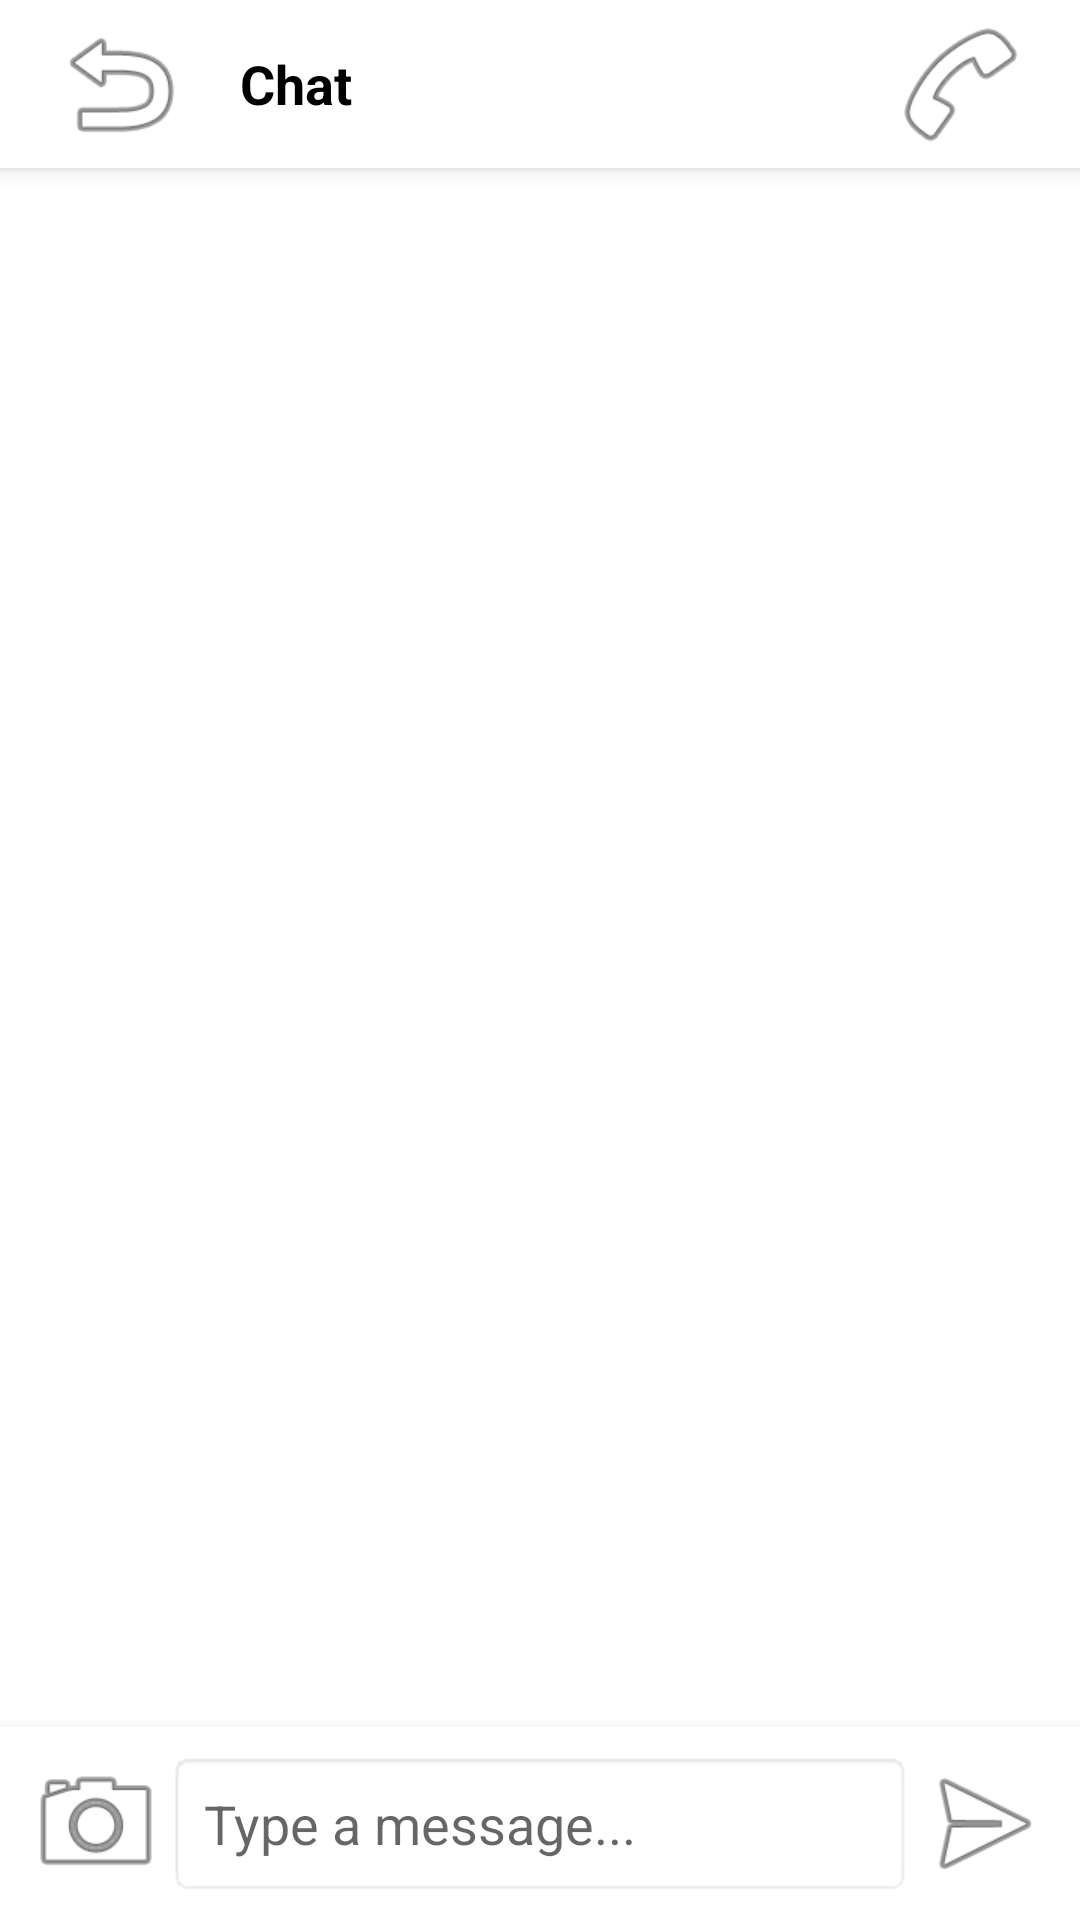

Icons on this 1080 x 1920 Android screen, each with the point to tap as [x,y]:
call: [960,84]
camera: [96,1820]
revert: [122,85]
send: [985,1823]
